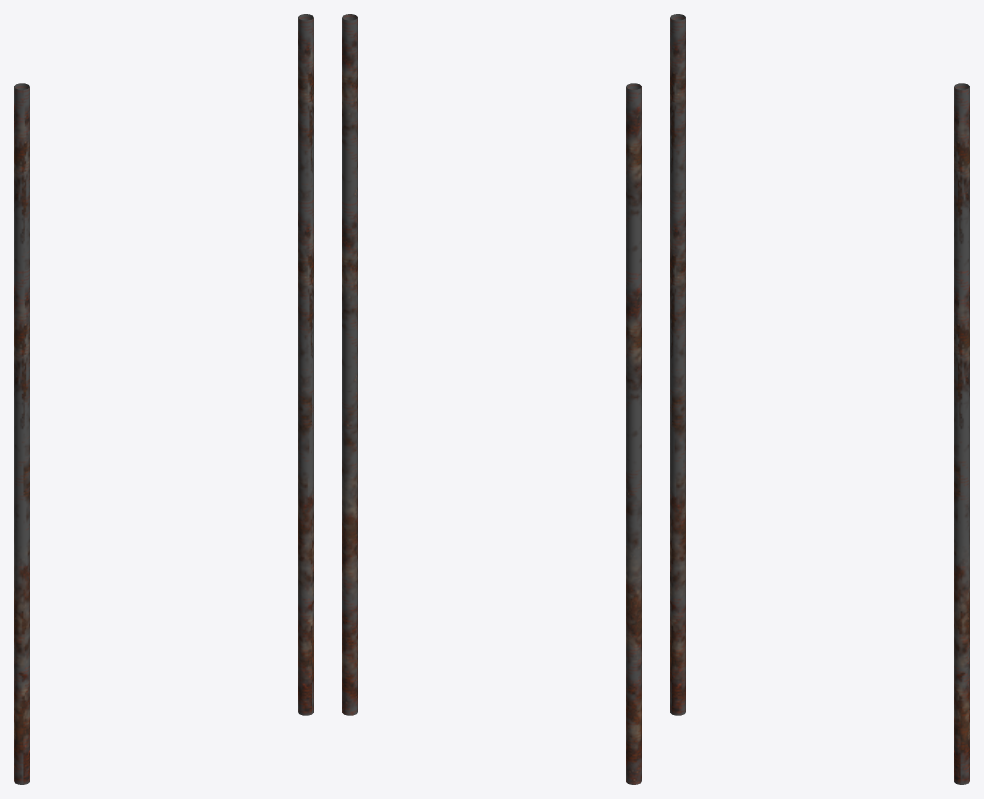
Rendered from Bracket_06a_snaps019.fbx.
3 renders of one model, left to right at view 1: azimuth 30°, elevation 25°; view 2: azimuth 150°, elevation 25°; view 3: azimuth 330°, elevation 25°, orthographic.
Visible parts, largest first — view 1: Bracket_06a_snaps019_LOD0; view 2: Bracket_06a_snaps019_LOD0; view 3: Bracket_06a_snaps019_LOD0.
Boxes of the visible parts, x1,y1,x2,y2 form: Bracket_06a_snaps019_LOD0: (14, 14, 313, 784); Bracket_06a_snaps019_LOD0: (342, 14, 641, 784); Bracket_06a_snaps019_LOD0: (670, 14, 969, 784).
Size of what is drawn, in the model's own units: 22.41 by 50 by 0.9887.
